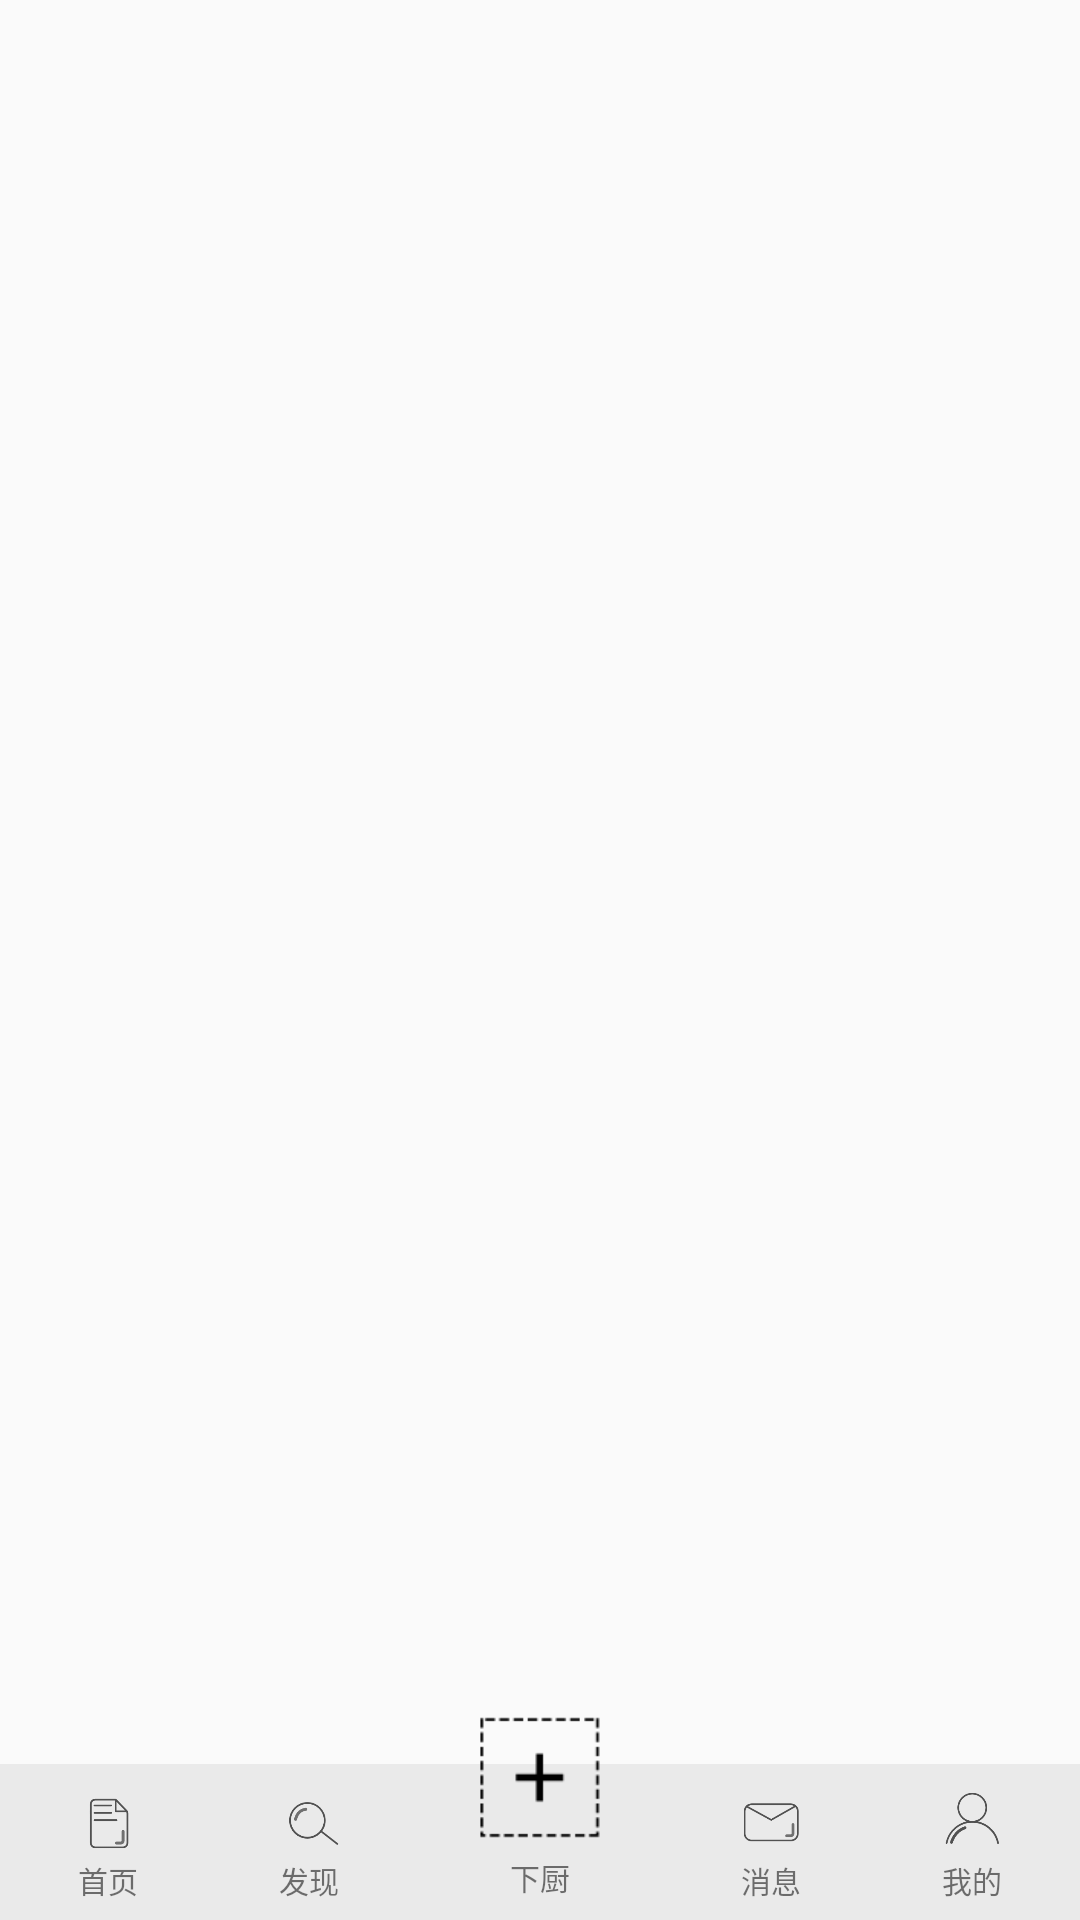

Icon click points for this 1080w x 1920h phone screenshot, format [x,y]:
add: [540,1777]
